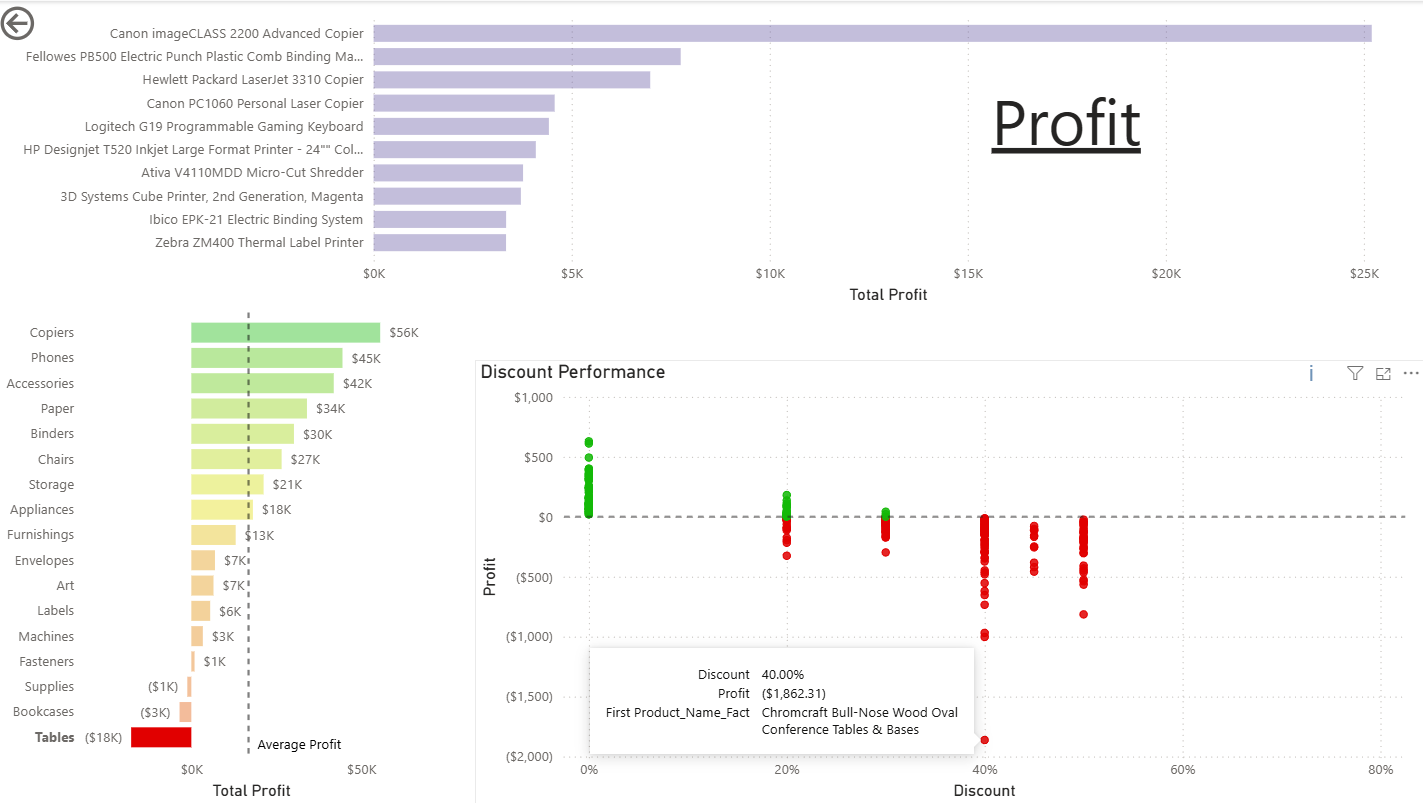

The page's visual inventory and layout, read from the dashboard file:
{"tool":"powerbi","page":{"name":"Profit","canvas":[1280,720],"ordinal":1},"visuals":[{"type":"clusteredBarChart","fields":{"Y":["_Measures.Total Profit"],"Category":["dProduct.Product_Name"]},"box":[7.8,0,1272.2,275.6],"z":2500},{"type":"scatterChart","title":"Discount Performance","fields":{"Y":["fOrders.Profit"],"X":["fOrders.Discount"]},"box":[430,321.1,850,398.9],"z":3000},{"type":"clusteredBarChart","title":"Total Profit","fields":{"Category":["dProduct.Sub_Category"],"Y":["_Measures.Total Profit"]},"box":[0,265.6,398.9,454.4],"z":3125},{"type":"actionButton","box":[0,0,100,40],"z":3375},{"type":"textbox","box":[877.8,63.3,163.3,104.4],"z":3875}]}

Visuals, with their boxes in screenshot pixels (x1, y1, x2, y2), scaled from the page's 1280x720 canvas onto the 1423x803 screenshot:
clusteredBarChart - _Measures.Total Profit x dProduct.Product_Name: <box>9,0,1422,307</box>
"Discount Performance" scatterChart: <box>478,358,1422,802</box>
"Total Profit" clusteredBarChart: <box>0,296,443,802</box>
actionButton: <box>0,0,111,45</box>
textbox: <box>976,71,1157,187</box>
